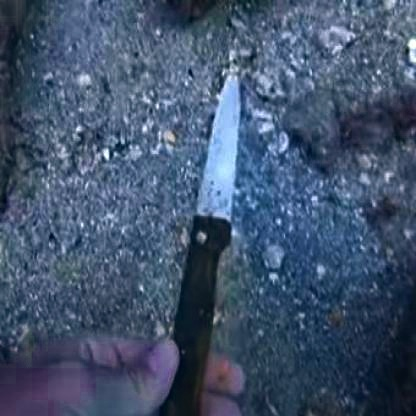misc: (163, 65, 240, 416)
